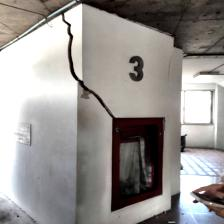High: (48, 8, 125, 130)
